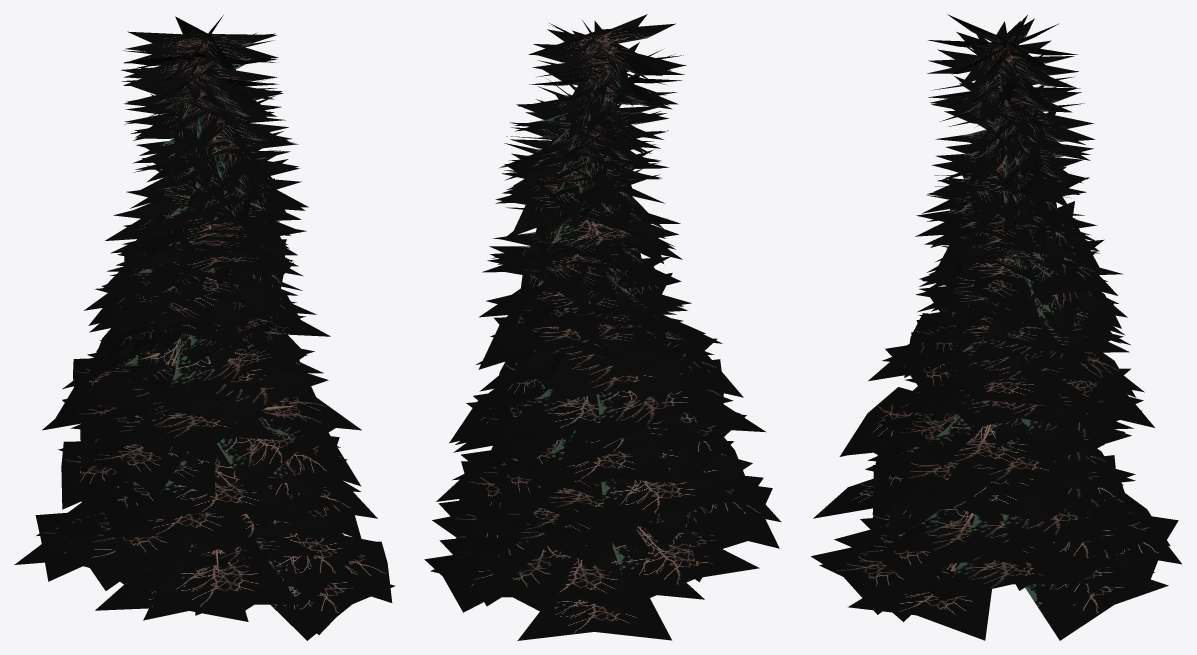
The model's file is Random Trees.004.fbx.
The picture shows the model from 3 angles, left to right: view 1: azimuth 30°, elevation 25°; view 2: azimuth 150°, elevation 25°; view 3: azimuth 270°, elevation 25°; orthographic projection. The views are drawn at different scales.
Parts seen in each view (by area): view 1: Random Trees.004; view 2: Random Trees.004; view 3: Random Trees.004.
Boxes of the visible parts, x1,y1,x2,y2 form: Random Trees.004: (14, 15, 394, 640); Random Trees.004: (424, 14, 781, 640); Random Trees.004: (811, 14, 1181, 640).
Bounding box in the file's own units: 1932 × 3198 × 1969.
